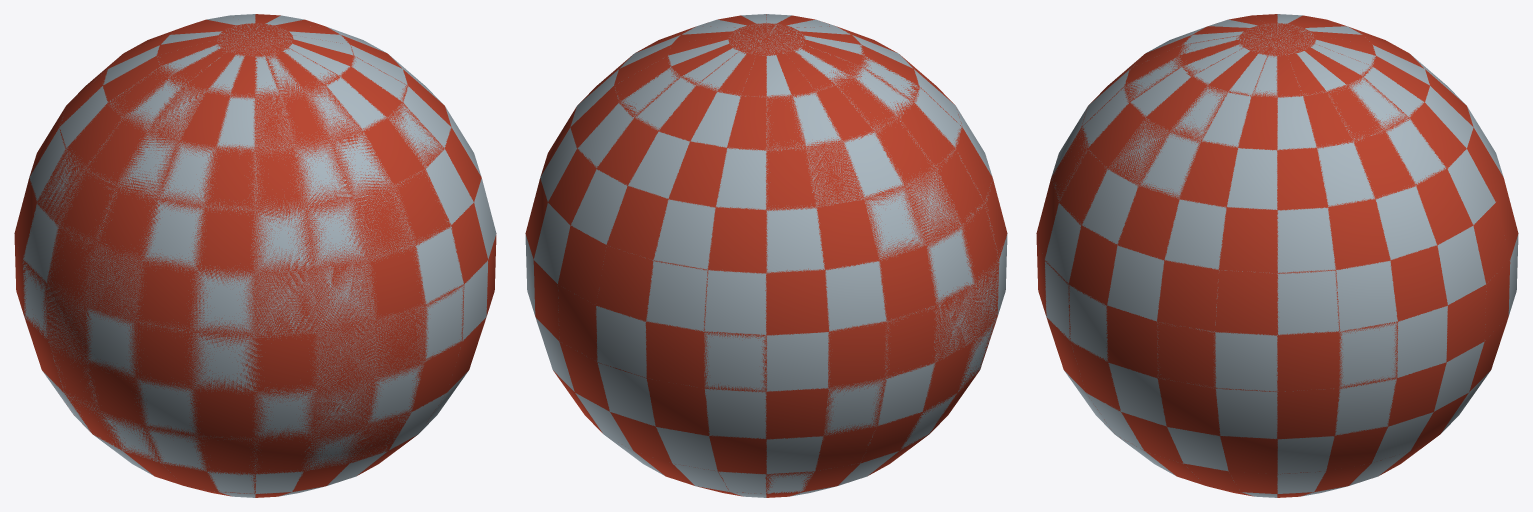
Rendered from Ball_red_01.obj.
3 renders of one model, left to right at view 1: azimuth 30°, elevation 25°; view 2: azimuth 150°, elevation 25°; view 3: azimuth 270°, elevation 25°, orthographic.
Parts seen in each view (by area): view 1: Mesh1 Ball_red Model; view 2: Mesh1 Ball_red Model; view 3: Mesh1 Ball_red Model.
Boxes of the visible parts, left/top/right/bottom form: Mesh1 Ball_red Model: left=14, top=14, right=496, bottom=497; Mesh1 Ball_red Model: left=525, top=14, right=1007, bottom=497; Mesh1 Ball_red Model: left=1036, top=14, right=1518, bottom=497.
Size of the model in its own units: 0.2099 by 0.2096 by 0.2099.
